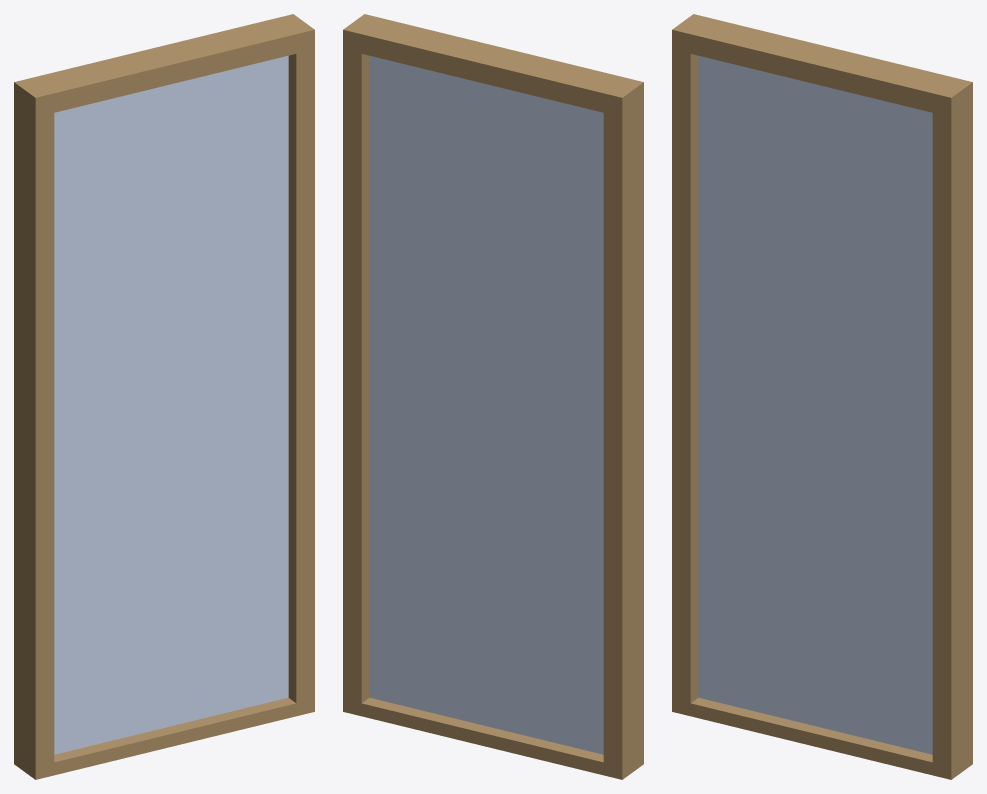
3 views of the same model, side by side, from view 1: azimuth 30°, elevation 25°; view 2: azimuth 150°, elevation 25°; view 3: azimuth 330°, elevation 25° (orthographic).
Visible parts, largest first — view 1: door_glass, frame; view 2: door_glass, frame; view 3: door_glass, frame.
Boxes of the visible parts, <box> form: door_glass: <box>54,55,288,754</box>; frame: <box>14,14,314,779</box>; door_glass: <box>369,55,603,754</box>; frame: <box>343,14,643,779</box>; door_glass: <box>698,55,932,754</box>; frame: <box>672,14,972,779</box>.
Bounding box in the file's own units: 0.9 × 2.1 × 0.12.
